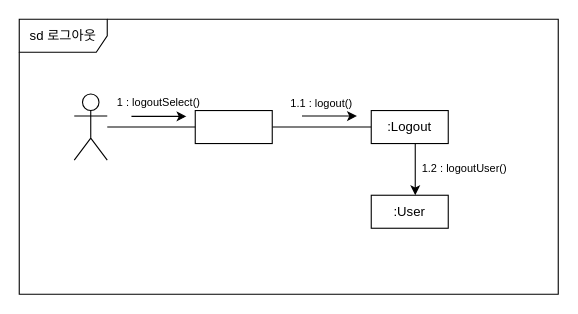
Image size: 578x314. Some labels were removed from this diagram. The box of each missing label's shape, as (x1, y1, x2, y2) in pixels:
:LogoutUI: (194, 109, 272, 144)
:회원: (73, 93, 107, 160)
